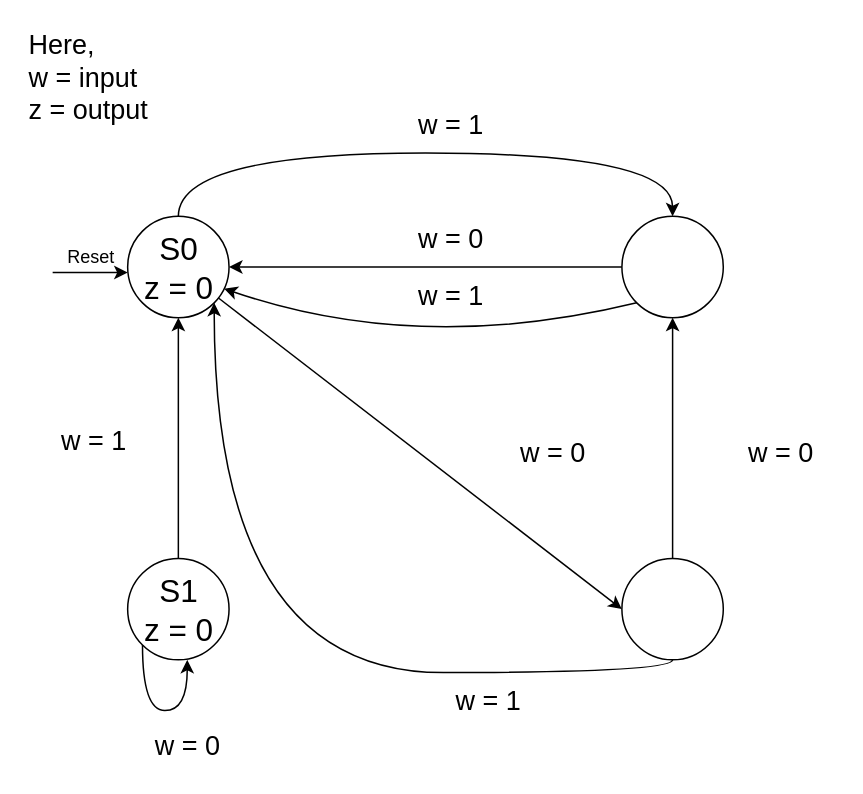
Some shapes in this 863 by 794 pixel diagram are drawn without their labels. Here are the shapes that lost their labels. From the top down, the centre of each, then its label:
(x=671, y=266): S3 z = 1
(x=671, y=608): S2 z = 0
